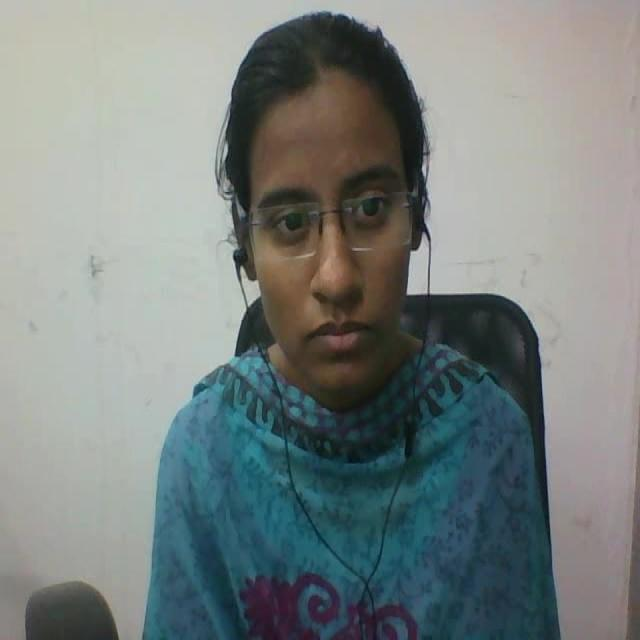Engaged: (212, 0, 465, 412)
